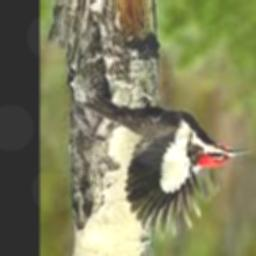Woodpecker: (77, 93, 250, 237)
